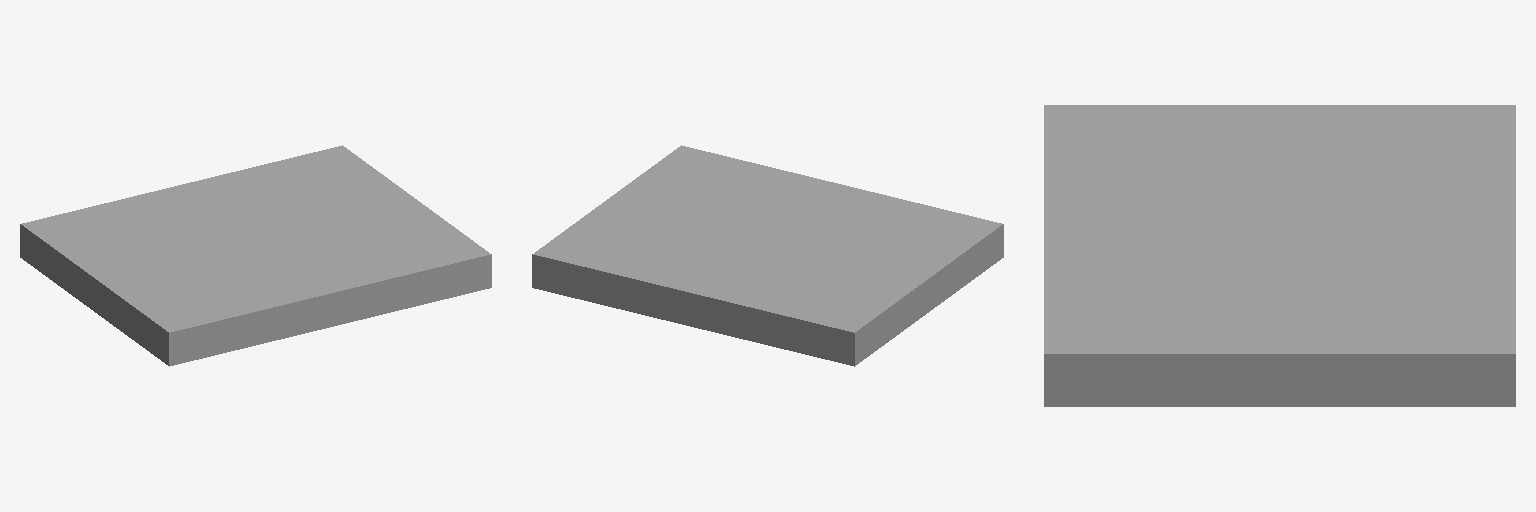
robot.urdf — husky:
<?xml version="1.0" ?>
<!-- =================================================================================== -->
<!-- |    This document was autogenerated by xacro from husky.urdf.xacro               | -->
<!-- |    EDITING THIS FILE BY HAND IS NOT RECOMMENDED                                 | -->
<!-- =================================================================================== -->
<!--
Software License Agreement (BSD)

\file      husky.urdf.xacro
\authors   [author] <[email redacted]>, [author] <[email redacted]>
\copyright Copyright (c) 2015, Clearpath Robotics, Inc., All rights reserved.

Redistribution and use in source and binary forms, with or without modification, are permitted provided that
the following conditions are met:
 * Redistributions of source code must retain the above copyright notice, this list of conditions and the
   following disclaimer.
 * Redistributions in binary form must reproduce the above copyright notice, this list of conditions and the
   following disclaimer in the documentation and/or other materials provided with the distribution.
 * Neither the name of Clearpath Robotics nor the names of its contributors may be used to endorse or promote
   products derived from this software without specific prior written permission.

THIS SOFTWARE IS PROVIDED BY THE COPYRIGHT [author] "AS IS" AND ANY EXPRESS OR IMPLIED WAR-
RANTIES, INCLUDING, BUT NOT LIMITED TO, THE IMPLIED WARRANTIES OF MERCHANTABILITY AND FITNESS FOR A PARTICULAR
PURPOSE ARE DISCLAIMED. IN NO EVENT SHALL THE COPYRIGHT [author] LIABLE FOR ANY DIRECT, IN-
DIRECT, INCIDENTAL, SPECIAL, EXEMPLARY, OR CONSEQUENTIAL DAMAGES (INCLUDING, BUT NOT LIMITED TO, PROCUREMENT
OF SUBSTITUTE GOODS OR SERVICES; LOSS OF USE, DATA, OR PROFITS; OR BUSINESS INTERRUPTION) HOWEVER CAUSED AND
ON ANY THEORY OF LIABILITY, WHETHER IN CONTRACT, STRICT LIABILITY, OR TORT (INCLUDING NEGLIGENCE OR OTHERWISE)
ARISING IN ANY WAY OUT OF THE USE OF THIS SOFTWARE, EVEN IF ADVISED OF THE POSSIBILITY OF SUCH DAMAGE.
-->
<robot name="husky">
  <material name="dark_grey">
    <color rgba="0.2 0.2 0.2 1.0"/>
  </material>
  <material name="medium_grey">
    <color rgba="0.6 0.6 0.6 1.0"/>
  </material>
  <material name="light_grey">
    <color rgba="0.8 0.8 0.8 1.0"/>
  </material>
  <material name="yellow">
    <color rgba="0.8 0.8 0.0 1.0"/>
  </material>
  <material name="black">
    <color rgba="0.15 0.15 0.15 1.0"/>
  </material>
  <material name="white">
    <color rgba="1.0 1.0 1.0 1.0"/>
  </material>
  <material name="red">
    <color rgba="1.0 0.0 0.0 1.0"/>
  </material>
  <!-- Base link is the center of the robot's bottom plate -->
  <link name="base_link">
    <visual>
      <origin rpy="0 0 0" xyz="0 0 0"/>
      <geometry>
        <mesh filename="package://husky_description/meshes/base_link.dae"/>
      </geometry>
    </visual>
    <collision>
      <origin rpy="0 0 0" xyz="0.0 0 0.061875"/>
      <geometry>
        <box size="0.9874 0.5709 0.12375"/>
      </geometry>
    </collision>
    <collision>
      <origin rpy="0 0 0" xyz="0 0 0.17562499999999998"/>
      <geometry>
        <box size="0.7899200000000001 0.5709 0.10375"/>
      </geometry>
    </collision>
  </link>
  <!-- Base footprint is on the ground under the robot -->
  <link name="base_footprint"/>
  <joint name="base_footprint_joint" type="fixed">
    <origin rpy="0 0 0" xyz="0 0 -0.13228"/>
    <parent link="base_link"/>
    <child link="base_footprint"/>
  </joint>
  <!-- Inertial link stores the robot's inertial information -->
  <link name="inertial_link">
    <inertial>
      <mass value="46.034"/>
      <origin xyz="-0.00065 -0.085 0.062"/>
      <inertia ixx="0.6022" ixy="-0.02364" ixz="-0.1197" iyy="1.7386" iyz="-0.001544" izz="2.0296"/>
    </inertial>
  </link>
  <joint name="inertial_joint" type="fixed">
    <origin rpy="0 0 0" xyz="0 0 0"/>
    <parent link="base_link"/>
    <child link="inertial_link"/>
  </joint>
  <link name="front_left_wheel_link">
    <inertial>
      <mass value="2.637"/>
      <origin xyz="0 0 0"/>
      <inertia ixx="0.02467" ixy="0" ixz="0" iyy="0.04411" iyz="0" izz="0.02467"/>
    </inertial>
    <visual>
      <origin rpy="0 0 0" xyz="0 0 0"/>
      <geometry>
        <mesh filename="package://husky_description/meshes/wheel.dae"/>
      </geometry>
    </visual>
    <collision>
      <origin rpy="1.570795 0 0" xyz="0 0 0"/>
      <geometry>
        <cylinder length="0.1143" radius="0.1651"/>
      </geometry>
    </collision>
  </link>
  <gazebo reference="front_left_wheel_link">
    <mu1 value="1.0"/>
    <mu2 value="1.0"/>
    <kp value="10000000.0"/>
    <kd value="1.0"/>
    <fdir1 value="1 0 0"/>
  </gazebo>
  <joint name="front_left_wheel" type="continuous">
    <parent link="base_link"/>
    <child link="front_left_wheel_link"/>
    <origin rpy="0 0 0" xyz="0.256 0.2854 0.03282"/>
    <axis rpy="0 0 0" xyz="0 1 0"/>
  </joint>
  <transmission name="front_left_wheel_trans" type="SimpleTransmission">
    <type>transmission_interface/SimpleTransmission</type>
    <actuator name="front_left_wheel_motor">
      <mechanicalReduction>1</mechanicalReduction>
    </actuator>
    <joint name="front_left_wheel">
      <hardwareInterface>hardware_interface/VelocityJointInterface</hardwareInterface>
    </joint>
  </transmission>
  <link name="front_right_wheel_link">
    <inertial>
      <mass value="2.637"/>
      <origin xyz="0 0 0"/>
      <inertia ixx="0.02467" ixy="0" ixz="0" iyy="0.04411" iyz="0" izz="0.02467"/>
    </inertial>
    <visual>
      <origin rpy="0 0 0" xyz="0 0 0"/>
      <geometry>
        <mesh filename="package://husky_description/meshes/wheel.dae"/>
      </geometry>
    </visual>
    <collision>
      <origin rpy="1.570795 0 0" xyz="0 0 0"/>
      <geometry>
        <cylinder length="0.1143" radius="0.1651"/>
      </geometry>
    </collision>
  </link>
  <gazebo reference="front_right_wheel_link">
    <mu1 value="1.0"/>
    <mu2 value="1.0"/>
    <kp value="10000000.0"/>
    <kd value="1.0"/>
    <fdir1 value="1 0 0"/>
  </gazebo>
  <joint name="front_right_wheel" type="continuous">
    <parent link="base_link"/>
    <child link="front_right_wheel_link"/>
    <origin rpy="0 0 0" xyz="0.256 -0.2854 0.03282"/>
    <axis rpy="0 0 0" xyz="0 1 0"/>
  </joint>
  <transmission name="front_right_wheel_trans" type="SimpleTransmission">
    <type>transmission_interface/SimpleTransmission</type>
    <actuator name="front_right_wheel_motor">
      <mechanicalReduction>1</mechanicalReduction>
    </actuator>
    <joint name="front_right_wheel">
      <hardwareInterface>hardware_interface/VelocityJointInterface</hardwareInterface>
    </joint>
  </transmission>
  <link name="rear_left_wheel_link">
    <inertial>
      <mass value="2.637"/>
      <origin xyz="0 0 0"/>
      <inertia ixx="0.02467" ixy="0" ixz="0" iyy="0.04411" iyz="0" izz="0.02467"/>
    </inertial>
    <visual>
      <origin rpy="0 0 0" xyz="0 0 0"/>
      <geometry>
        <mesh filename="package://husky_description/meshes/wheel.dae"/>
      </geometry>
    </visual>
    <collision>
      <origin rpy="1.570795 0 0" xyz="0 0 0"/>
      <geometry>
        <cylinder length="0.1143" radius="0.1651"/>
      </geometry>
    </collision>
  </link>
  <gazebo reference="rear_left_wheel_link">
    <mu1 value="1.0"/>
    <mu2 value="1.0"/>
    <kp value="10000000.0"/>
    <kd value="1.0"/>
    <fdir1 value="1 0 0"/>
  </gazebo>
  <joint name="rear_left_wheel" type="continuous">
    <parent link="base_link"/>
    <child link="rear_left_wheel_link"/>
    <origin rpy="0 0 0" xyz="-0.256 0.2854 0.03282"/>
    <axis rpy="0 0 0" xyz="0 1 0"/>
  </joint>
  <transmission name="rear_left_wheel_trans" type="SimpleTransmission">
    <type>transmission_interface/SimpleTransmission</type>
    <actuator name="rear_left_wheel_motor">
      <mechanicalReduction>1</mechanicalReduction>
    </actuator>
    <joint name="rear_left_wheel">
      <hardwareInterface>hardware_interface/VelocityJointInterface</hardwareInterface>
    </joint>
  </transmission>
  <link name="rear_right_wheel_link">
    <inertial>
      <mass value="2.637"/>
      <origin xyz="0 0 0"/>
      <inertia ixx="0.02467" ixy="0" ixz="0" iyy="0.04411" iyz="0" izz="0.02467"/>
    </inertial>
    <visual>
      <origin rpy="0 0 0" xyz="0 0 0"/>
      <geometry>
        <mesh filename="package://husky_description/meshes/wheel.dae"/>
      </geometry>
    </visual>
    <collision>
      <origin rpy="1.570795 0 0" xyz="0 0 0"/>
      <geometry>
        <cylinder length="0.1143" radius="0.1651"/>
      </geometry>
    </collision>
  </link>
  <gazebo reference="rear_right_wheel_link">
    <mu1 value="1.0"/>
    <mu2 value="1.0"/>
    <kp value="10000000.0"/>
    <kd value="1.0"/>
    <fdir1 value="1 0 0"/>
  </gazebo>
  <joint name="rear_right_wheel" type="continuous">
    <parent link="base_link"/>
    <child link="rear_right_wheel_link"/>
    <origin rpy="0 0 0" xyz="-0.256 -0.2854 0.03282"/>
    <axis rpy="0 0 0" xyz="0 1 0"/>
  </joint>
  <transmission name="rear_right_wheel_trans" type="SimpleTransmission">
    <type>transmission_interface/SimpleTransmission</type>
    <actuator name="rear_right_wheel_motor">
      <mechanicalReduction>1</mechanicalReduction>
    </actuator>
    <joint name="rear_right_wheel">
      <hardwareInterface>hardware_interface/VelocityJointInterface</hardwareInterface>
    </joint>
  </transmission>
  <!--
      CHASSIS: Spawn and attach default chassis.
               Currently, no customization available.
    -->
  <!-- Spawn Husky chassis -->
  <link name="top_chassis_link">
    <visual>
      <origin rpy="0 0 0" xyz="0 0 0"/>
      <geometry>
        <mesh filename="package://husky_description/meshes/top_chassis.dae"/>
      </geometry>
    </visual>
  </link>
  <!-- Attach chassis to the robot -->
  <joint name="top_chassis_joint" type="fixed">
    <parent link="base_link"/>
    <child link="top_chassis_link"/>
  </joint>
  <link name="front_bumper_link">
    <visual>
      <geometry>
        <mesh filename="package://husky_description/meshes/bumper.dae"/>
      </geometry>
    </visual>
  </link>
  <!-- Attach front bumper -->
  <joint name="front_bumper" type="fixed">
    <origin rpy="0 0 0" xyz="0.48 0 0.091"/>
    <parent link="base_link"/>
    <child link="front_bumper_link"/>
  </joint>
  <link name="rear_bumper_link">
    <visual>
      <geometry>
        <mesh filename="package://husky_description/meshes/bumper.dae"/>
      </geometry>
    </visual>
  </link>
  <!-- Attach rear bumper -->
  <joint name="rear_bumper" type="fixed">
    <origin rpy="0 0 3.14159" xyz="-0.48 0 0.091"/>
    <parent link="base_link"/>
    <child link="rear_bumper_link"/>
  </joint>
  <!-- Spawn user rails -->
  <link name="user_rail_link">
    <visual>
      <geometry>
        <mesh filename="package://husky_description/meshes/user_rail.dae"/>
      </geometry>
    </visual>
  </link>
  <!-- Attach user rails to base link -->
  <joint name="user_rail" type="fixed">
    <origin rpy="0 0 0" xyz="0.272 0 0.245"/>
    <parent link="base_link"/>
    <child link="user_rail_link"/>
  </joint>
  <!-- Spawn default top plate -->
  <link name="top_plate_link">
    <visual>
      <origin rpy="0 0 0" xyz="0 0 0"/>
      <geometry>
        <mesh filename="package://husky_description/meshes/top_plate.dae"/>
      </geometry>
    </visual>
    <collision>
      <origin rpy="0 0 0" xyz="0 0 0"/>
      <geometry>
        <mesh filename="package://husky_description/meshes/top_plate.stl"/>
      </geometry>
    </collision>
  </link>
  <!-- Attach default top plate -->
  <joint name="top_plate_joint" type="fixed">
    <parent link="base_link"/>
    <child link="top_plate_link"/>
    <origin rpy="0 0 0" xyz="0.0812 0 0.245"/>
  </joint>
  <!-- Default top plate front link -->
  <link name="top_plate_front_link"/>
  <joint name="top_plate_front_joint" type="fixed">
    <parent link="top_plate_link"/>
    <child link="top_plate_front_link"/>
    <origin rpy="0 0 0" xyz="0.36367 0 0.00639"/>
  </joint>
  <!-- Default top plate rear link-->
  <link name="top_plate_rear_link"/>
  <joint name="top_plate_rear_joint" type="fixed">
    <parent link="top_plate_link"/>
    <child link="top_plate_rear_link"/>
    <origin rpy="0 0 0" xyz="-0.36633 0 0.00639"/>
  </joint>
  <!--
      IMU Link: Standard location to add an IMU (i.e. UM7 or Microstrain)
  -->
  <link name="imu_link"/>
  <joint name="imu_joint" type="fixed">
    <origin rpy="0 -1.5708 3.1416" xyz="0.19 0 0.149"/>
    <parent link="base_link"/>
    <child link="imu_link"/>
  </joint>
  <gazebo reference="imu_link">
  </gazebo>
  <gazebo>
    <plugin filename="libgazebo_ros_control.so" name="gazebo_ros_control">
      <robotNamespace>/</robotNamespace>
      <legacyModeNS>true</legacyModeNS>
    </plugin>
  </gazebo>
  <gazebo>
    <plugin filename="libhector_gazebo_ros_imu.so" name="imu_controller">
      <robotNamespace>/</robotNamespace>
      <updateRate>50.0</updateRate>
      <bodyName>base_link</bodyName>
      <topicName>imu/data</topicName>
      <accelDrift>0.005 0.005 0.005</accelDrift>
      <accelGaussianNoise>0.005 0.005 0.005</accelGaussianNoise>
      <rateDrift>0.005 0.005 0.005 </rateDrift>
      <rateGaussianNoise>0.005 0.005 0.005 </rateGaussianNoise>
      <headingDrift>0.005</headingDrift>
      <headingGaussianNoise>0.005</headingGaussianNoise>
    </plugin>
  </gazebo>
  <gazebo>
    <plugin filename="libhector_gazebo_ros_gps.so" name="gps_controller">
      <robotNamespace>/</robotNamespace>
      <updateRate>40</updateRate>
      <bodyName>base_link</bodyName>
      <frameId>base_link</frameId>
      <topicName>navsat/fix</topicName>
      <velocityTopicName>navsat/vel</velocityTopicName>
      <referenceLatitude>49.9</referenceLatitude>
      <referenceLongitude>8.9</referenceLongitude>
      <referenceHeading>0</referenceHeading>
      <referenceAltitude>0</referenceAltitude>
      <drift>0.0001 0.0001 0.0001</drift>
    </plugin>
  </gazebo>
  <!-- This file is a placeholder which is included by default from
       husky.urdf.xacro. If a robot is being customized and requires
       additional URDF, set the HUSKY_URDF_EXTRAS environment variable
       to the full path of the file you would like included. -->
  <!-- This file is a placeholder which is included by default from
       husky.urdf.xacro. If a robot is being customized and requires
       additional URDF, set the HUSKY_URDF_EXTRAS environment variable
       to the full path of the file you would like included. -->
  
 <!-- Contact Sensor -->
 <link name="sim_collider">
    <collision>
      <origin xyz="0 0 0" rpy="0 0 0"/>
      <geometry>
        <box size="1.0 0.8 0.1"/>
      </geometry>
    </collision>
    <visual>
      <origin xyz="0 0 0" rpy="0 0 0"/>
      <geometry>
         <box size="1.0 0.8 0.1"/>
      </geometry>
    </visual>
    <inertial>
      <mass value="1e-5" />
      <origin xyz="0 0 0" rpy="0 0 0"/>
      <inertia ixx="1e-6" ixy="0" ixz="0" iyy="1e-6" iyz="0" izz="1e-6" />
    </inertial>
  </link>

  <joint name="sim_collider_joint" type="fixed">
    <origin xyz="0 0 0" rpy="0 0 0"/>
    <parent link="base_link"/> <!-- Change param parent link -->
    <child link="sim_collider"/>   <!-- Change param same as link -->
  </joint>

  <gazebo reference="sim_collider"> <!-- Change param same as link -->
    <sensor name="sim_collider_link_contact_sensor" type="contact">
      <always_on>true</always_on>
      <update_rate>100</update_rate>
      <contact>
        <collision>base_link_fixed_joint_lump__sim_collider_collision_2</collision> <!-- Change param same as link -->
      </contact>
      <plugin filename="libgazebo_ros_bumper.so" name="gazebo_ros_sim_collider_controller">
        <always_on>true</always_on>
        <update_rate>100</update_rate>
        <frameName>world</frameName> <!-- Change param -->
        <bumperTopicName>bumper_contact_state</bumperTopicName>
      </plugin>
    </sensor>
    <material>Gazebo/Orange</material>
  </gazebo>
</robot>

--- Facts derived from the render (not from the file) ---
Views: 3 orthographic renders of the robot side by side, from view 1: azimuth 30°, elevation 25°; view 2: azimuth 150°, elevation 25°; view 3: azimuth 270°, elevation 25°.
Robot: husky — 16 links, 15 joints (4 continuous, 11 fixed); root link base_link; default pose: every joint at zero.
Links seen in each view (by area): view 1: sim_collider; view 2: sim_collider; view 3: sim_collider.
Link boxes in pixels (<box>): sim_collider: <box>20,145,491,366</box>; sim_collider: <box>532,145,1003,366</box>; sim_collider: <box>1044,105,1515,406</box>.
Size in the robot's own frame: 1 by 0.8 by 0.1 metres.
0 mesh visuals loaded from 6 distinct referenced files (none loaded); not drawn: 10 (reference not matched to a file when rendering).